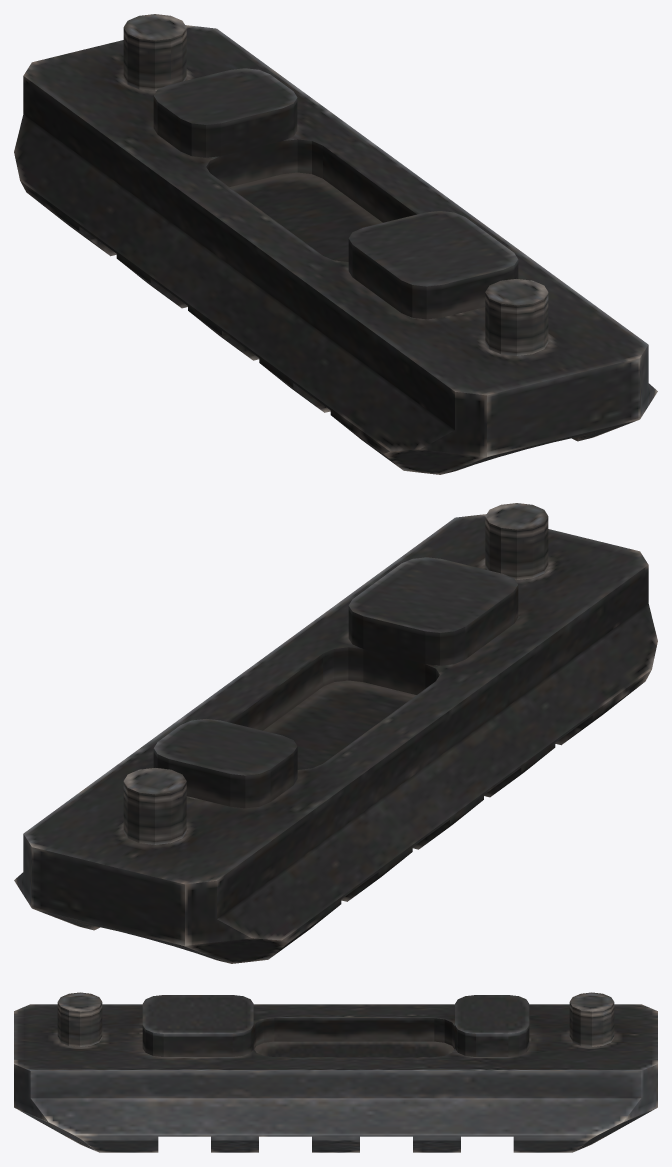
3 renders of one model, top to bottom at view 1: azimuth 30°, elevation 25°; view 2: azimuth 150°, elevation 25°; view 3: azimuth 270°, elevation 25°, orthographic. The views are drawn at different scales.
Visible parts, largest first — view 1: TW_5c0102aa0db834001b734ba1_PZ_Import; view 2: TW_5c0102aa0db834001b734ba1_PZ_Import; view 3: TW_5c0102aa0db834001b734ba1_PZ_Import.
Part boxes in pixels (bbox=[...]): TW_5c0102aa0db834001b734ba1_PZ_Import: bbox=[14, 14, 657, 474]; TW_5c0102aa0db834001b734ba1_PZ_Import: bbox=[14, 503, 657, 963]; TW_5c0102aa0db834001b734ba1_PZ_Import: bbox=[14, 992, 657, 1152].
Bounding box in the file's own units: 0.0123 × 0.0369 × 0.00734.
Materials: 1 (1 with a texture image).
